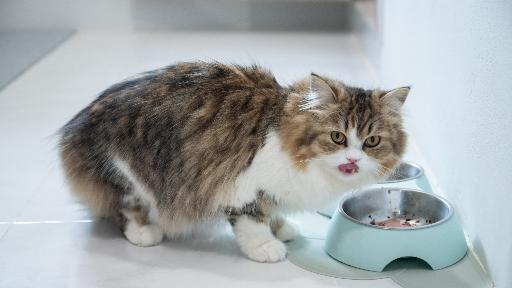cat_eating: (59, 62, 466, 271)
